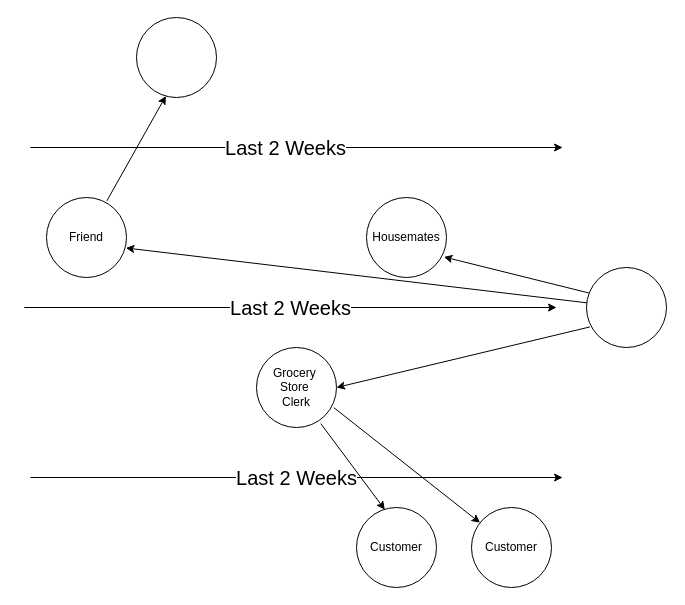
Image size: 685x605. Some labels were removed from this diagram. Here are the shapes that lost their labels. From the top down, the box of each, then its label:
(136, 16, 216, 98): Relative
(586, 266, 666, 348): Positive
